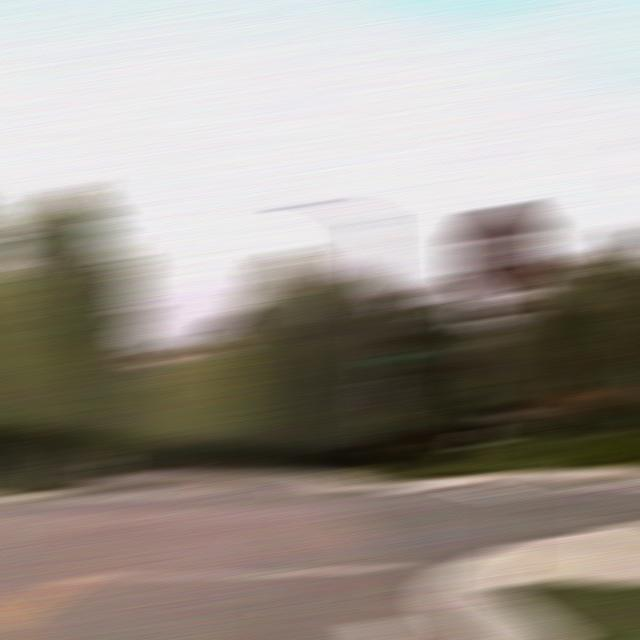stop_sign: (454, 201, 547, 296)
